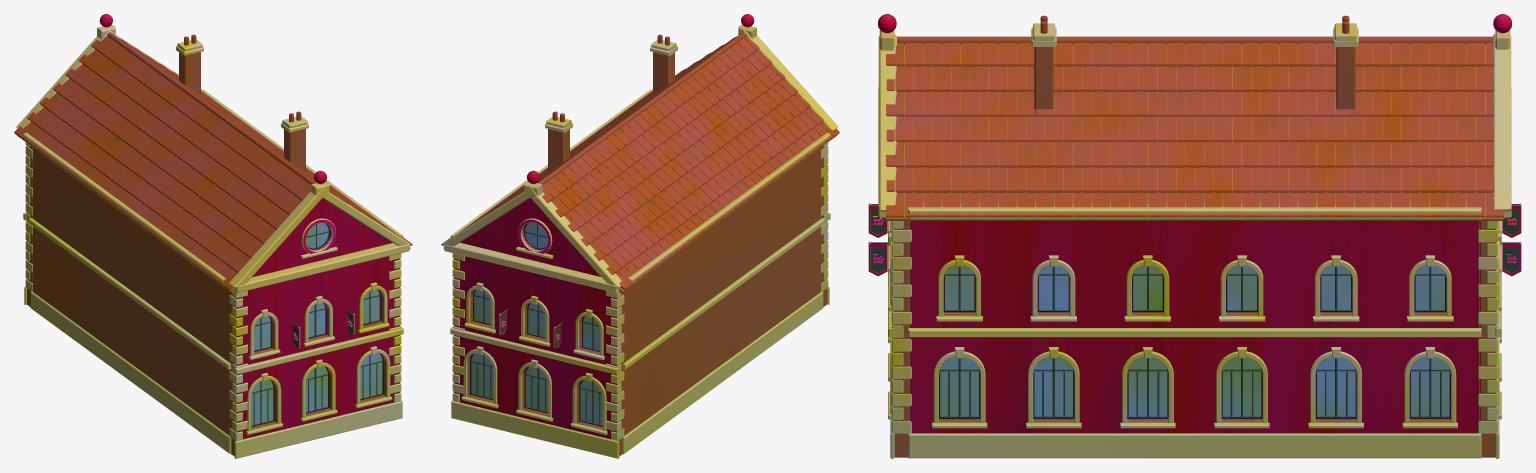
File: GS_Wing_Pavilion.glb
3 views of the same model, side by side, from view 1: azimuth 30°, elevation 25°; view 2: azimuth 150°, elevation 25°; view 3: azimuth 270°, elevation 25° (orthographic). The views are drawn at different scales.
Visible parts, largest first — view 1: GS_Wing_Pavilion; view 2: GS_Wing_Pavilion; view 3: GS_Wing_Pavilion.
Boxes of the visible parts, left/top/right/bottom form: GS_Wing_Pavilion: left=14, top=14, right=412, bottom=458; GS_Wing_Pavilion: left=441, top=14, right=839, bottom=458; GS_Wing_Pavilion: left=868, top=14, right=1521, bottom=458.
Bounding box in the file's own units: 10.11 × 14.68 × 21.66.
